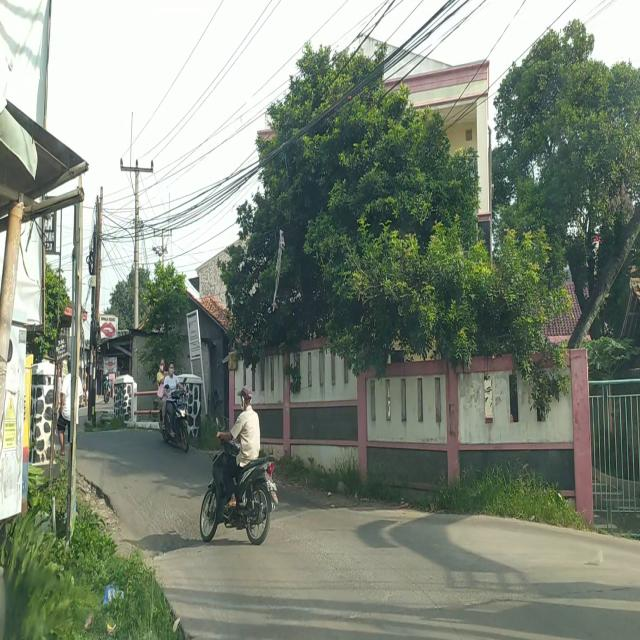Drain Hole: (150, 502, 200, 554)
